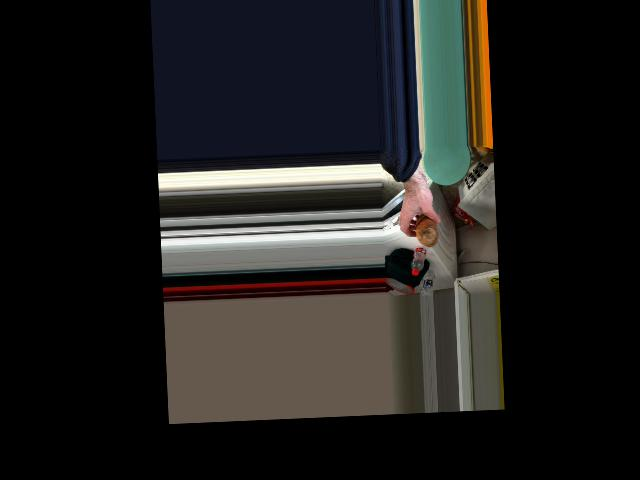sweet_potato: (412, 210, 442, 249)
